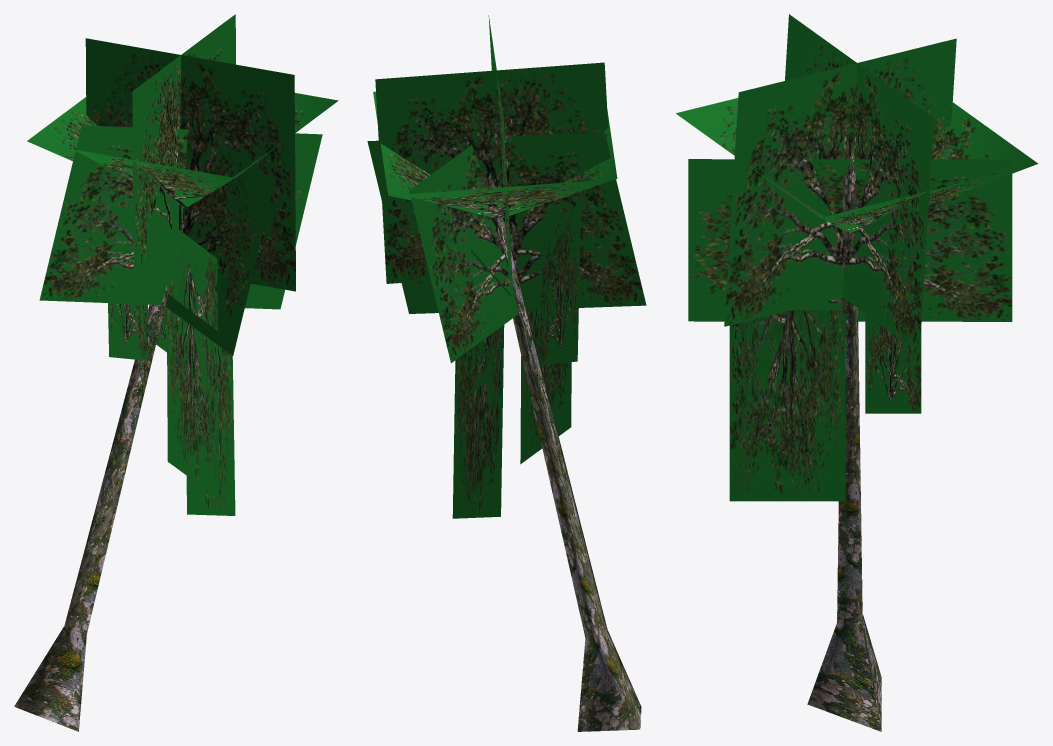
File: decd_mosstreetilted_l1.fbx
3 views of the same model, side by side, from view 1: azimuth 30°, elevation 25°; view 2: azimuth 150°, elevation 25°; view 3: azimuth 270°, elevation 25° (orthographic). The views are drawn at different scales.
Visible parts, largest first — view 1: mesh_node; view 2: mesh_node; view 3: mesh_node.
Boxes of the visible parts, x1,y1,x2,y2 form: mesh_node: (14,14,338,731); mesh_node: (367,15,646,731); mesh_node: (676,14,1037,731).
Bounding box in the file's own units: 7.99 × 16.52 × 7.5.
